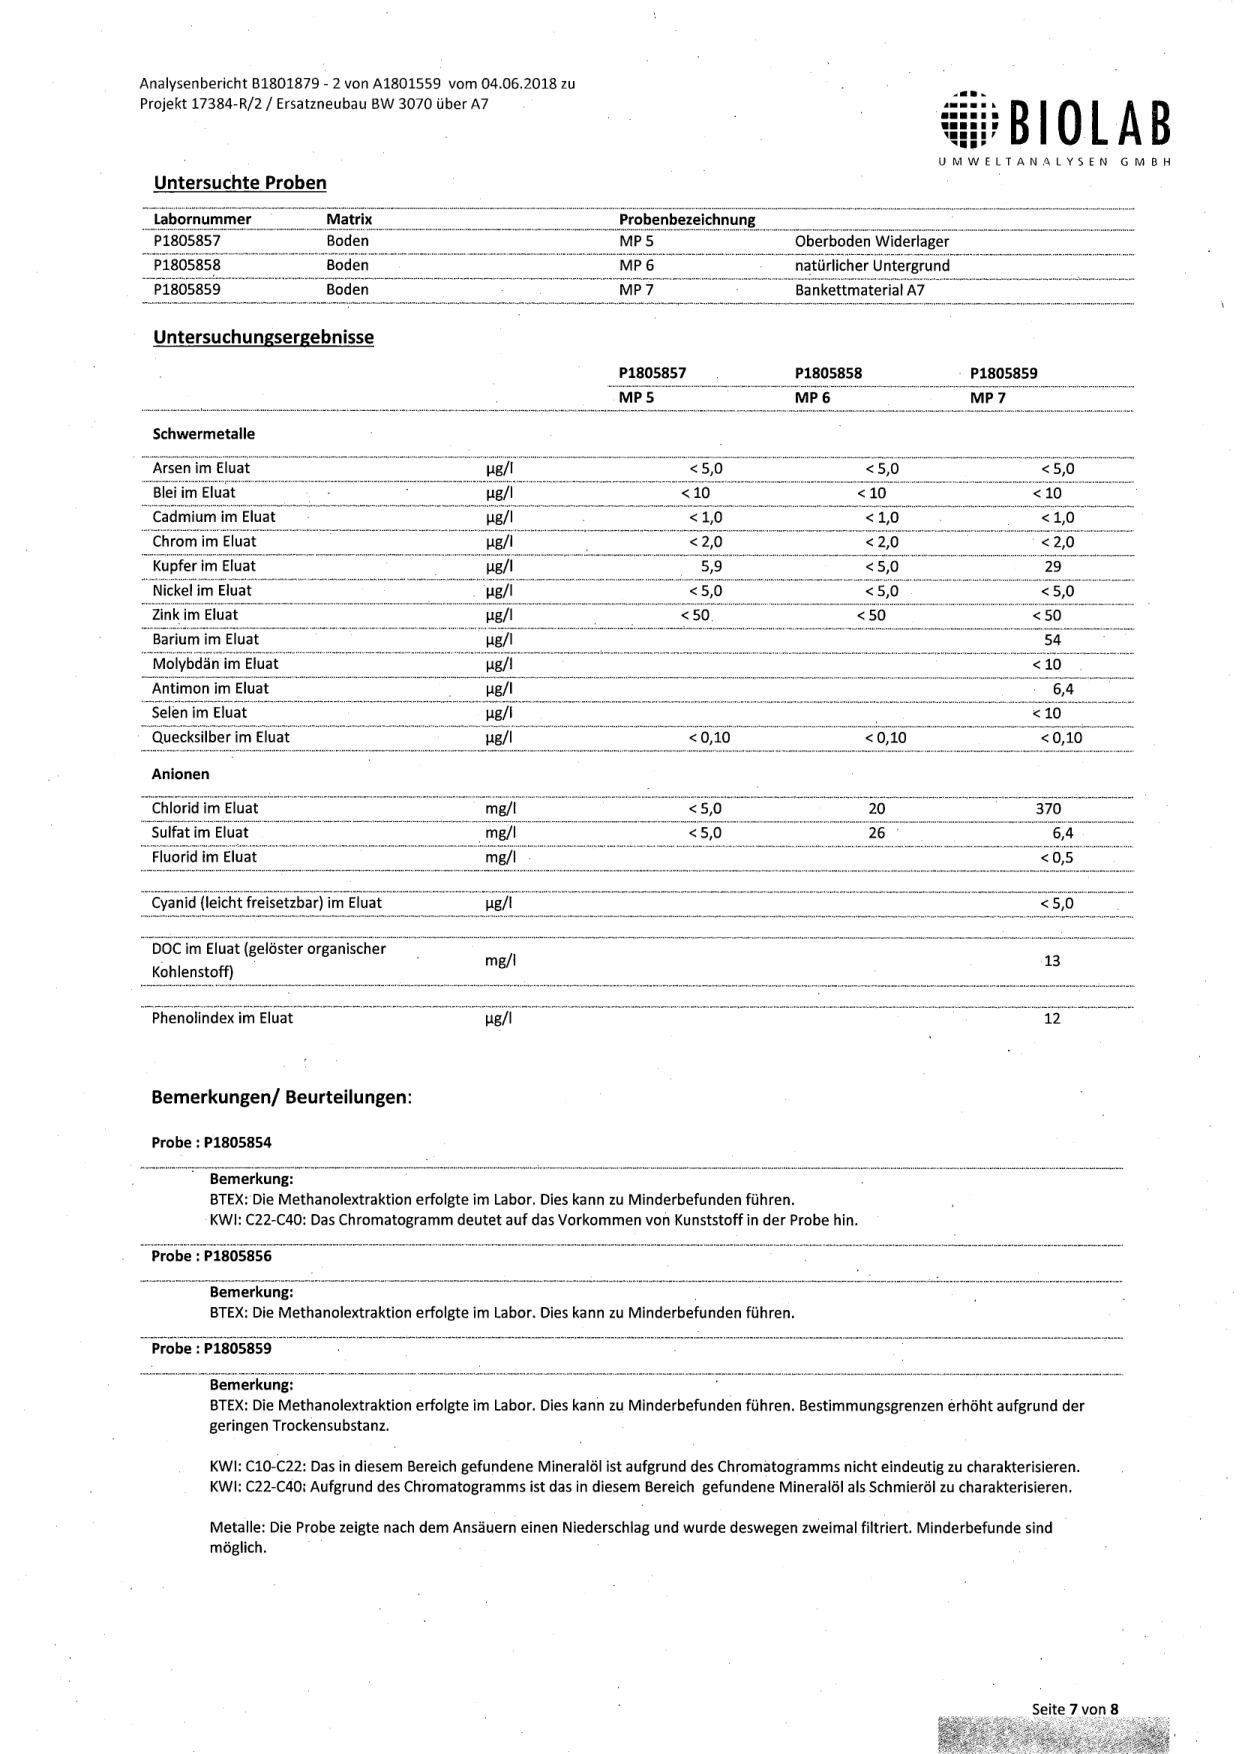table: (136, 447, 1143, 764), (133, 786, 1147, 923), (138, 201, 1143, 314), (133, 933, 1160, 1038)
